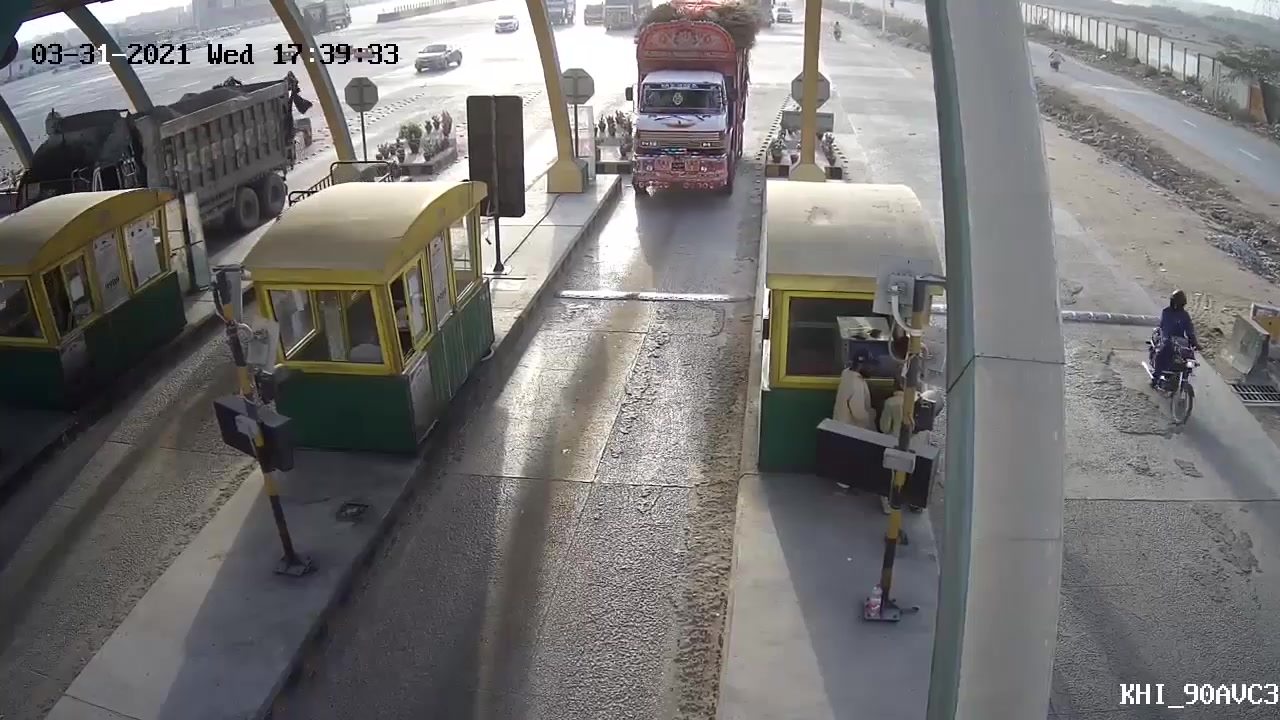F5: (611, 1, 764, 218)
